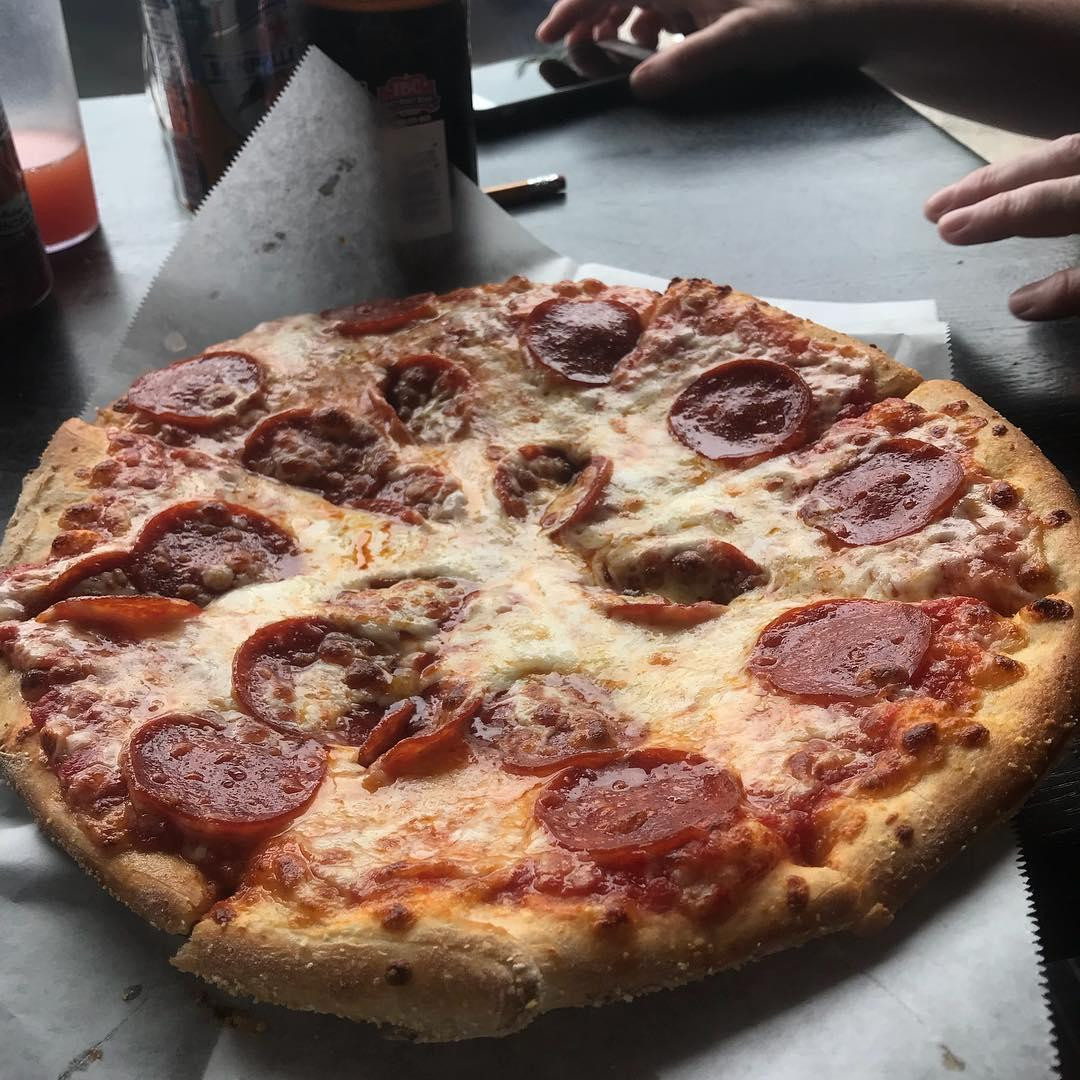Cheese: (441, 545, 577, 656), (619, 459, 790, 528), (113, 613, 233, 708), (617, 637, 734, 730), (309, 505, 422, 568), (521, 393, 664, 437)
Pepperoni: (233, 617, 429, 752), (745, 589, 957, 705), (125, 711, 328, 821), (541, 749, 733, 848), (129, 489, 292, 601), (793, 437, 954, 544), (591, 539, 773, 621), (477, 673, 629, 761), (675, 363, 805, 465), (475, 439, 612, 532), (33, 553, 209, 624), (367, 353, 480, 452), (245, 409, 378, 489), (527, 295, 638, 386), (131, 351, 257, 421), (353, 573, 478, 625), (365, 473, 453, 516)
Pizza: (3, 287, 1080, 1033)
